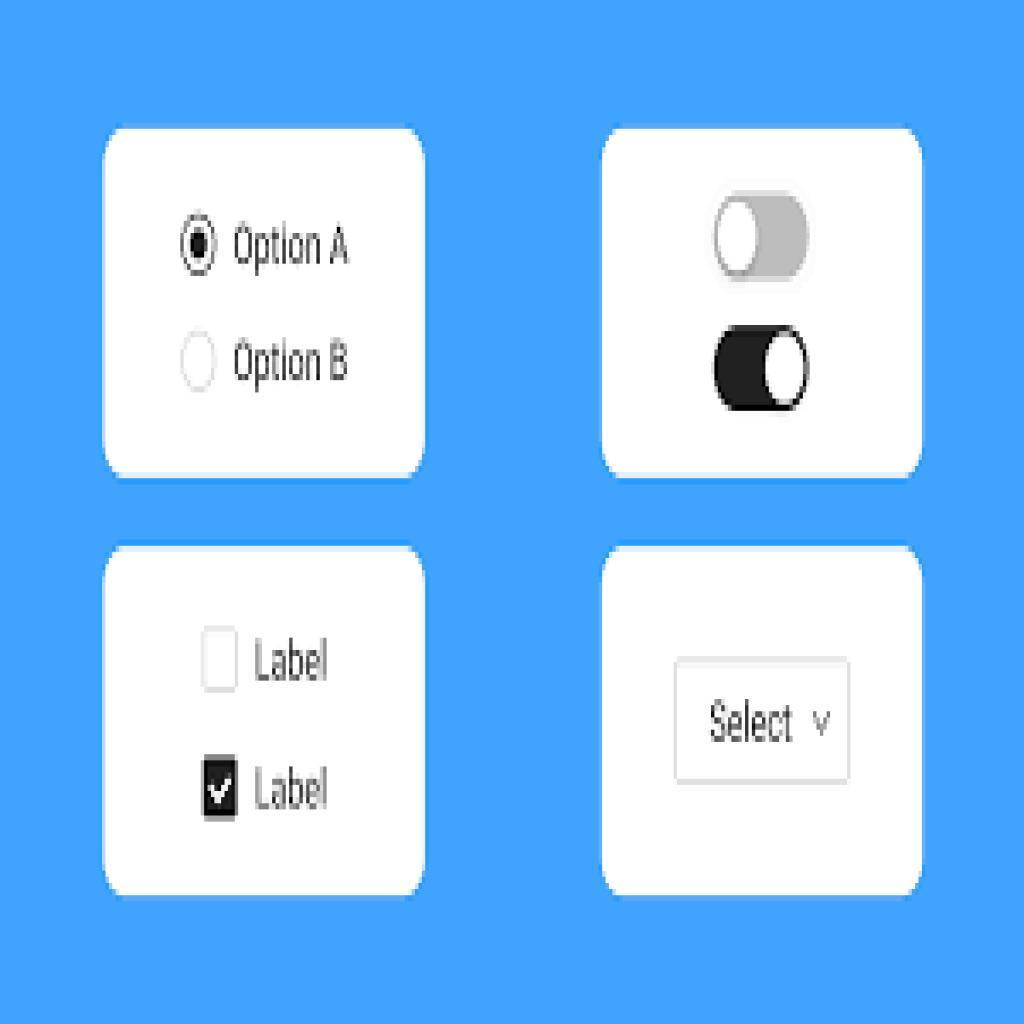checkbox: (202, 755, 242, 817), (200, 631, 239, 692)
dropdown: (676, 658, 848, 783)
label: (230, 215, 361, 277), (234, 334, 354, 395), (247, 635, 340, 686), (253, 766, 340, 817)
radio: (178, 328, 222, 397), (181, 214, 222, 280)
switch: (712, 196, 812, 284), (715, 326, 813, 412)
